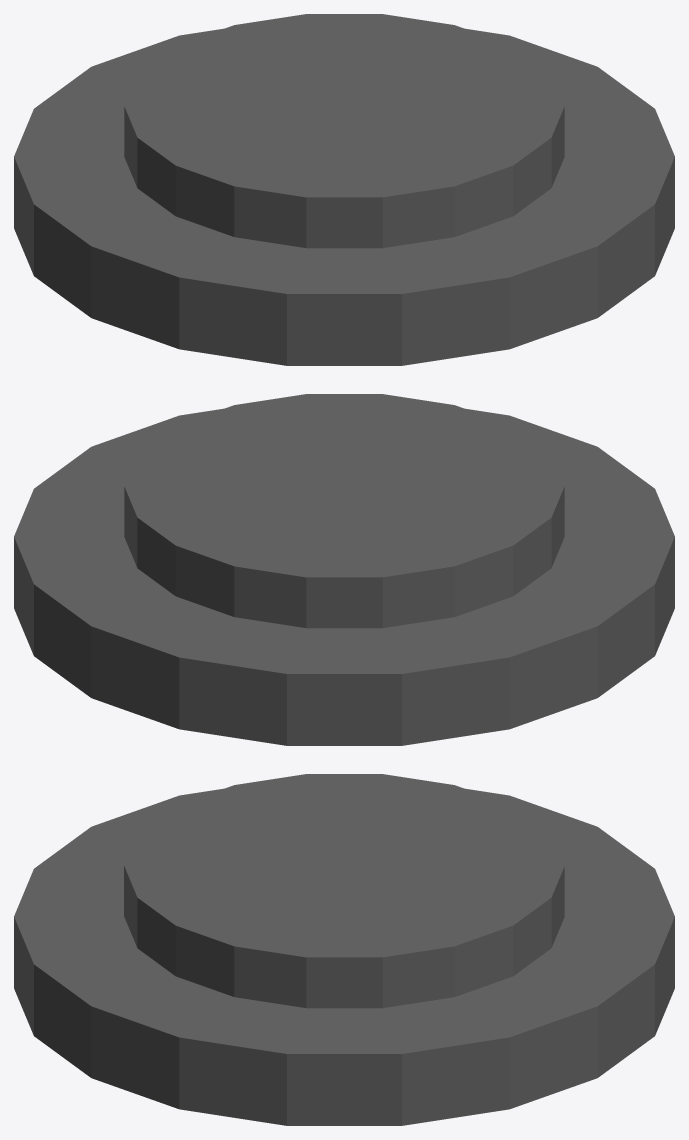
File: stand.obj
3 views of the same model, one above another, from view 1: azimuth 30°, elevation 25°; view 2: azimuth 150°, elevation 25°; view 3: azimuth 270°, elevation 25° (orthographic).
Parts seen in each view (by area): view 1: 円柱.001; view 2: 円柱.001; view 3: 円柱.001.
Part boxes in pixels (left/top/right/bottom): 円柱.001: left=14, top=14, right=674, bottom=365; 円柱.001: left=14, top=394, right=674, bottom=745; 円柱.001: left=14, top=774, right=674, bottom=1125.
Size of the model in its own units: 2.95 by 0.6143 by 3.
1 material, 1 textured.
